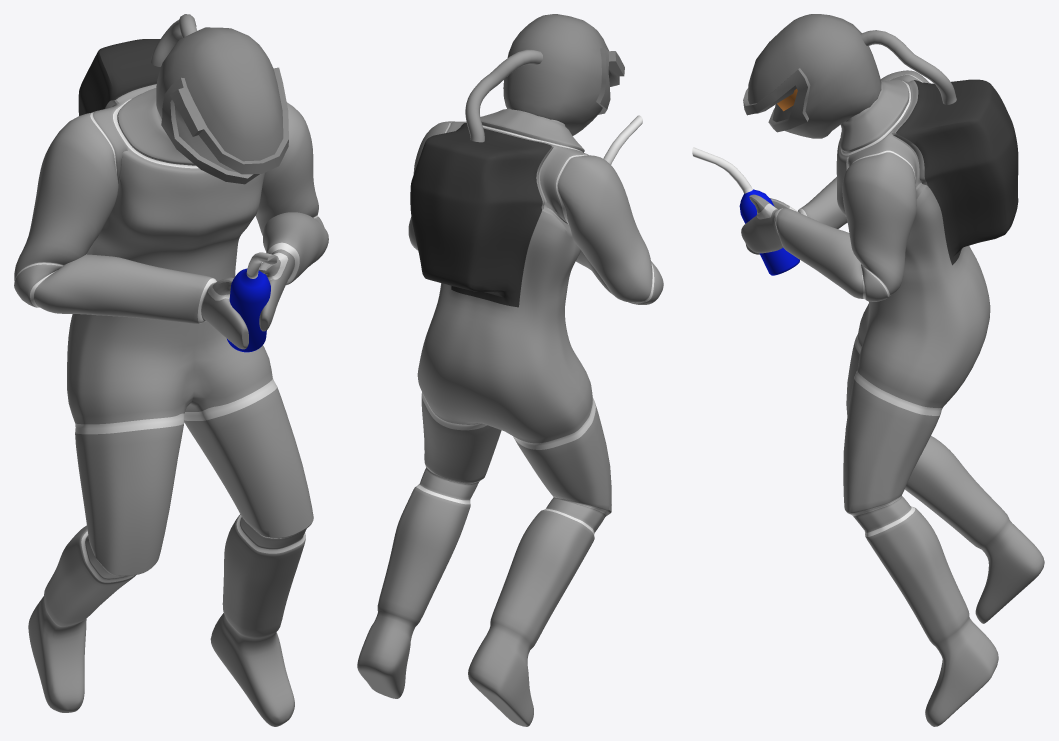
File: SpaceMan.fbx
3 views of the same model, side by side, from view 1: azimuth 30°, elevation 25°; view 2: azimuth 150°, elevation 25°; view 3: azimuth 270°, elevation 25° (orthographic). The views are drawn at different scales.
Parts seen in each view (by area): view 1: Body, Helmet, Torch, Air Tube; view 2: Body, Helmet, Air Tube, Torch; view 3: Body, Helmet, Torch, Air Tube.
Boxes of the visible parts, x1,y1,x2,y2 form: Body: (14, 39, 328, 726); Helmet: (156, 27, 288, 184); Torch: (227, 252, 278, 352); Air Tube: (151, 14, 197, 66); Body: (357, 108, 663, 726); Helmet: (503, 14, 624, 135); Air Tube: (465, 49, 542, 142); Torch: (603, 115, 642, 164); Body: (741, 70, 1044, 726); Helmet: (743, 14, 881, 138); Torch: (692, 147, 799, 275); Air Tube: (860, 30, 956, 104).
Bounding box in the file's own units: 0.6638 × 0.7871 × 1.61.
